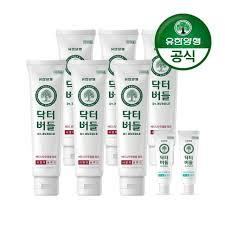toothpaste: (27, 55, 65, 193), (71, 62, 102, 196), (147, 34, 178, 141), (120, 58, 143, 188), (103, 27, 122, 164), (61, 25, 73, 162), (179, 132, 198, 209), (153, 132, 169, 193)
